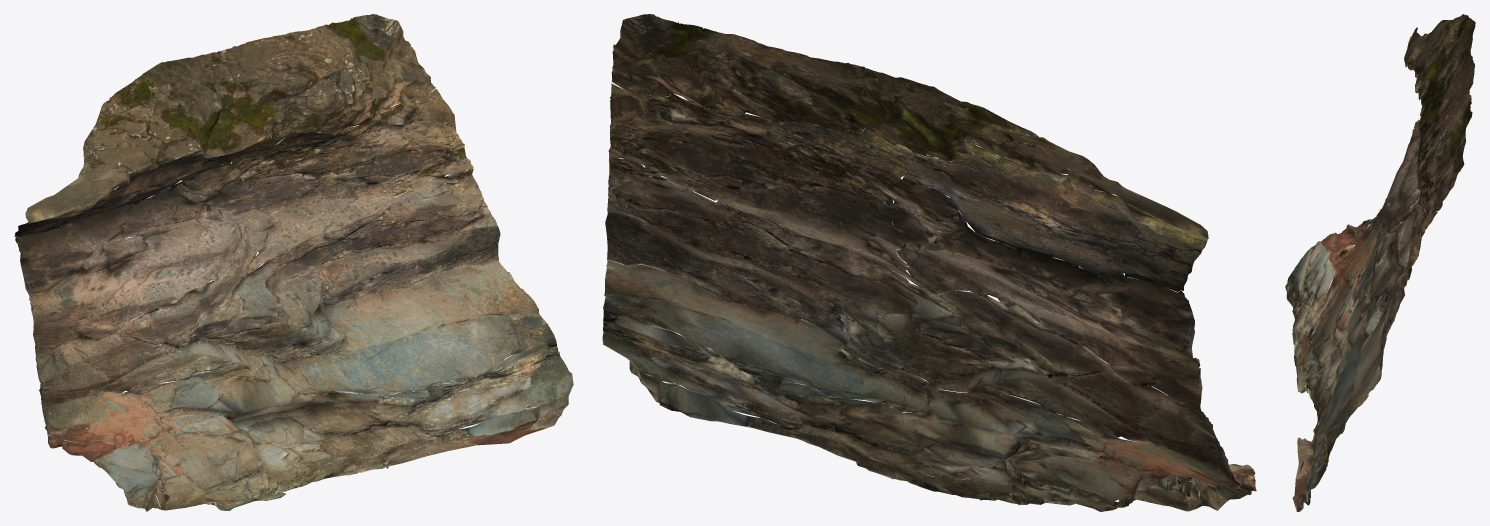
Rendered from ph-cliff_face_a.glb.
3 renders of one model, left to right at view 1: azimuth 30°, elevation 25°; view 2: azimuth 150°, elevation 25°; view 3: azimuth 270°, elevation 25°, orthographic. The views are drawn at different scales.
Visible parts, largest first — view 1: cliff_face_a; view 2: cliff_face_a; view 3: cliff_face_a.
Boxes of the visible parts, <box> form: cliff_face_a: <box>14,14,573,511</box>; cliff_face_a: <box>602,14,1256,511</box>; cliff_face_a: <box>1285,14,1475,511</box>.
Bounding box in the file's own units: 4.95 × 3.57 × 1.72.
1 material, 1 textured.
